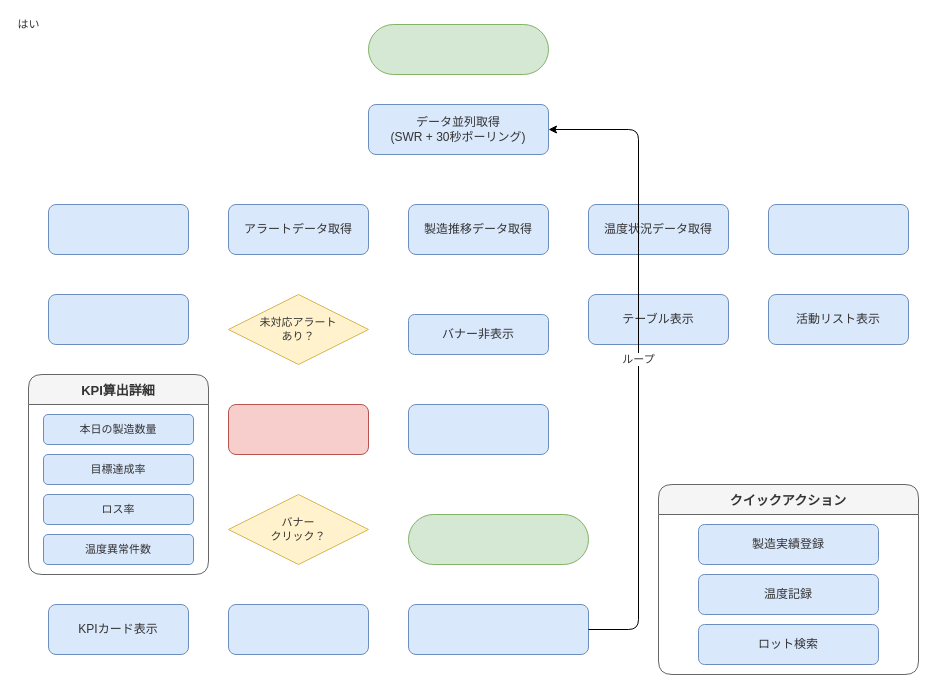
Image size: 936x692. Some labels were removed from this diagram. The shapes that lost their labels are listed below. From the top down, each one's centre as x and y in pixels, then its label:
the point at 458,49: ダッシュボード表示開始
the point at 118,229: KPIデータ取得
the point at 838,229: 最近の活動データ取得
the point at 118,319: KPI算出
the point at 298,429: 警告バナー表示
the point at 478,429: グラフ表示 (過去60日間)
the point at 498,539: ダッシュボード 表示完了
the point at 298,629: アラート管理画面 へ遷移
the point at 498,629: 30秒後に自動更新
